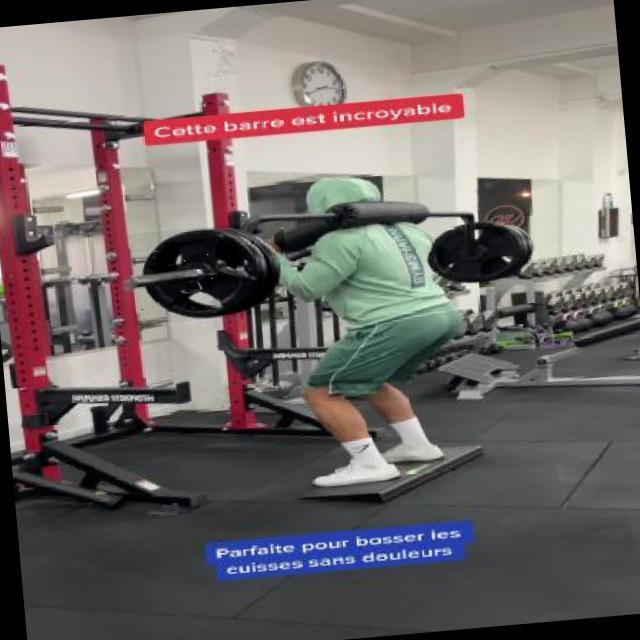barbell: (127, 222, 292, 329)
